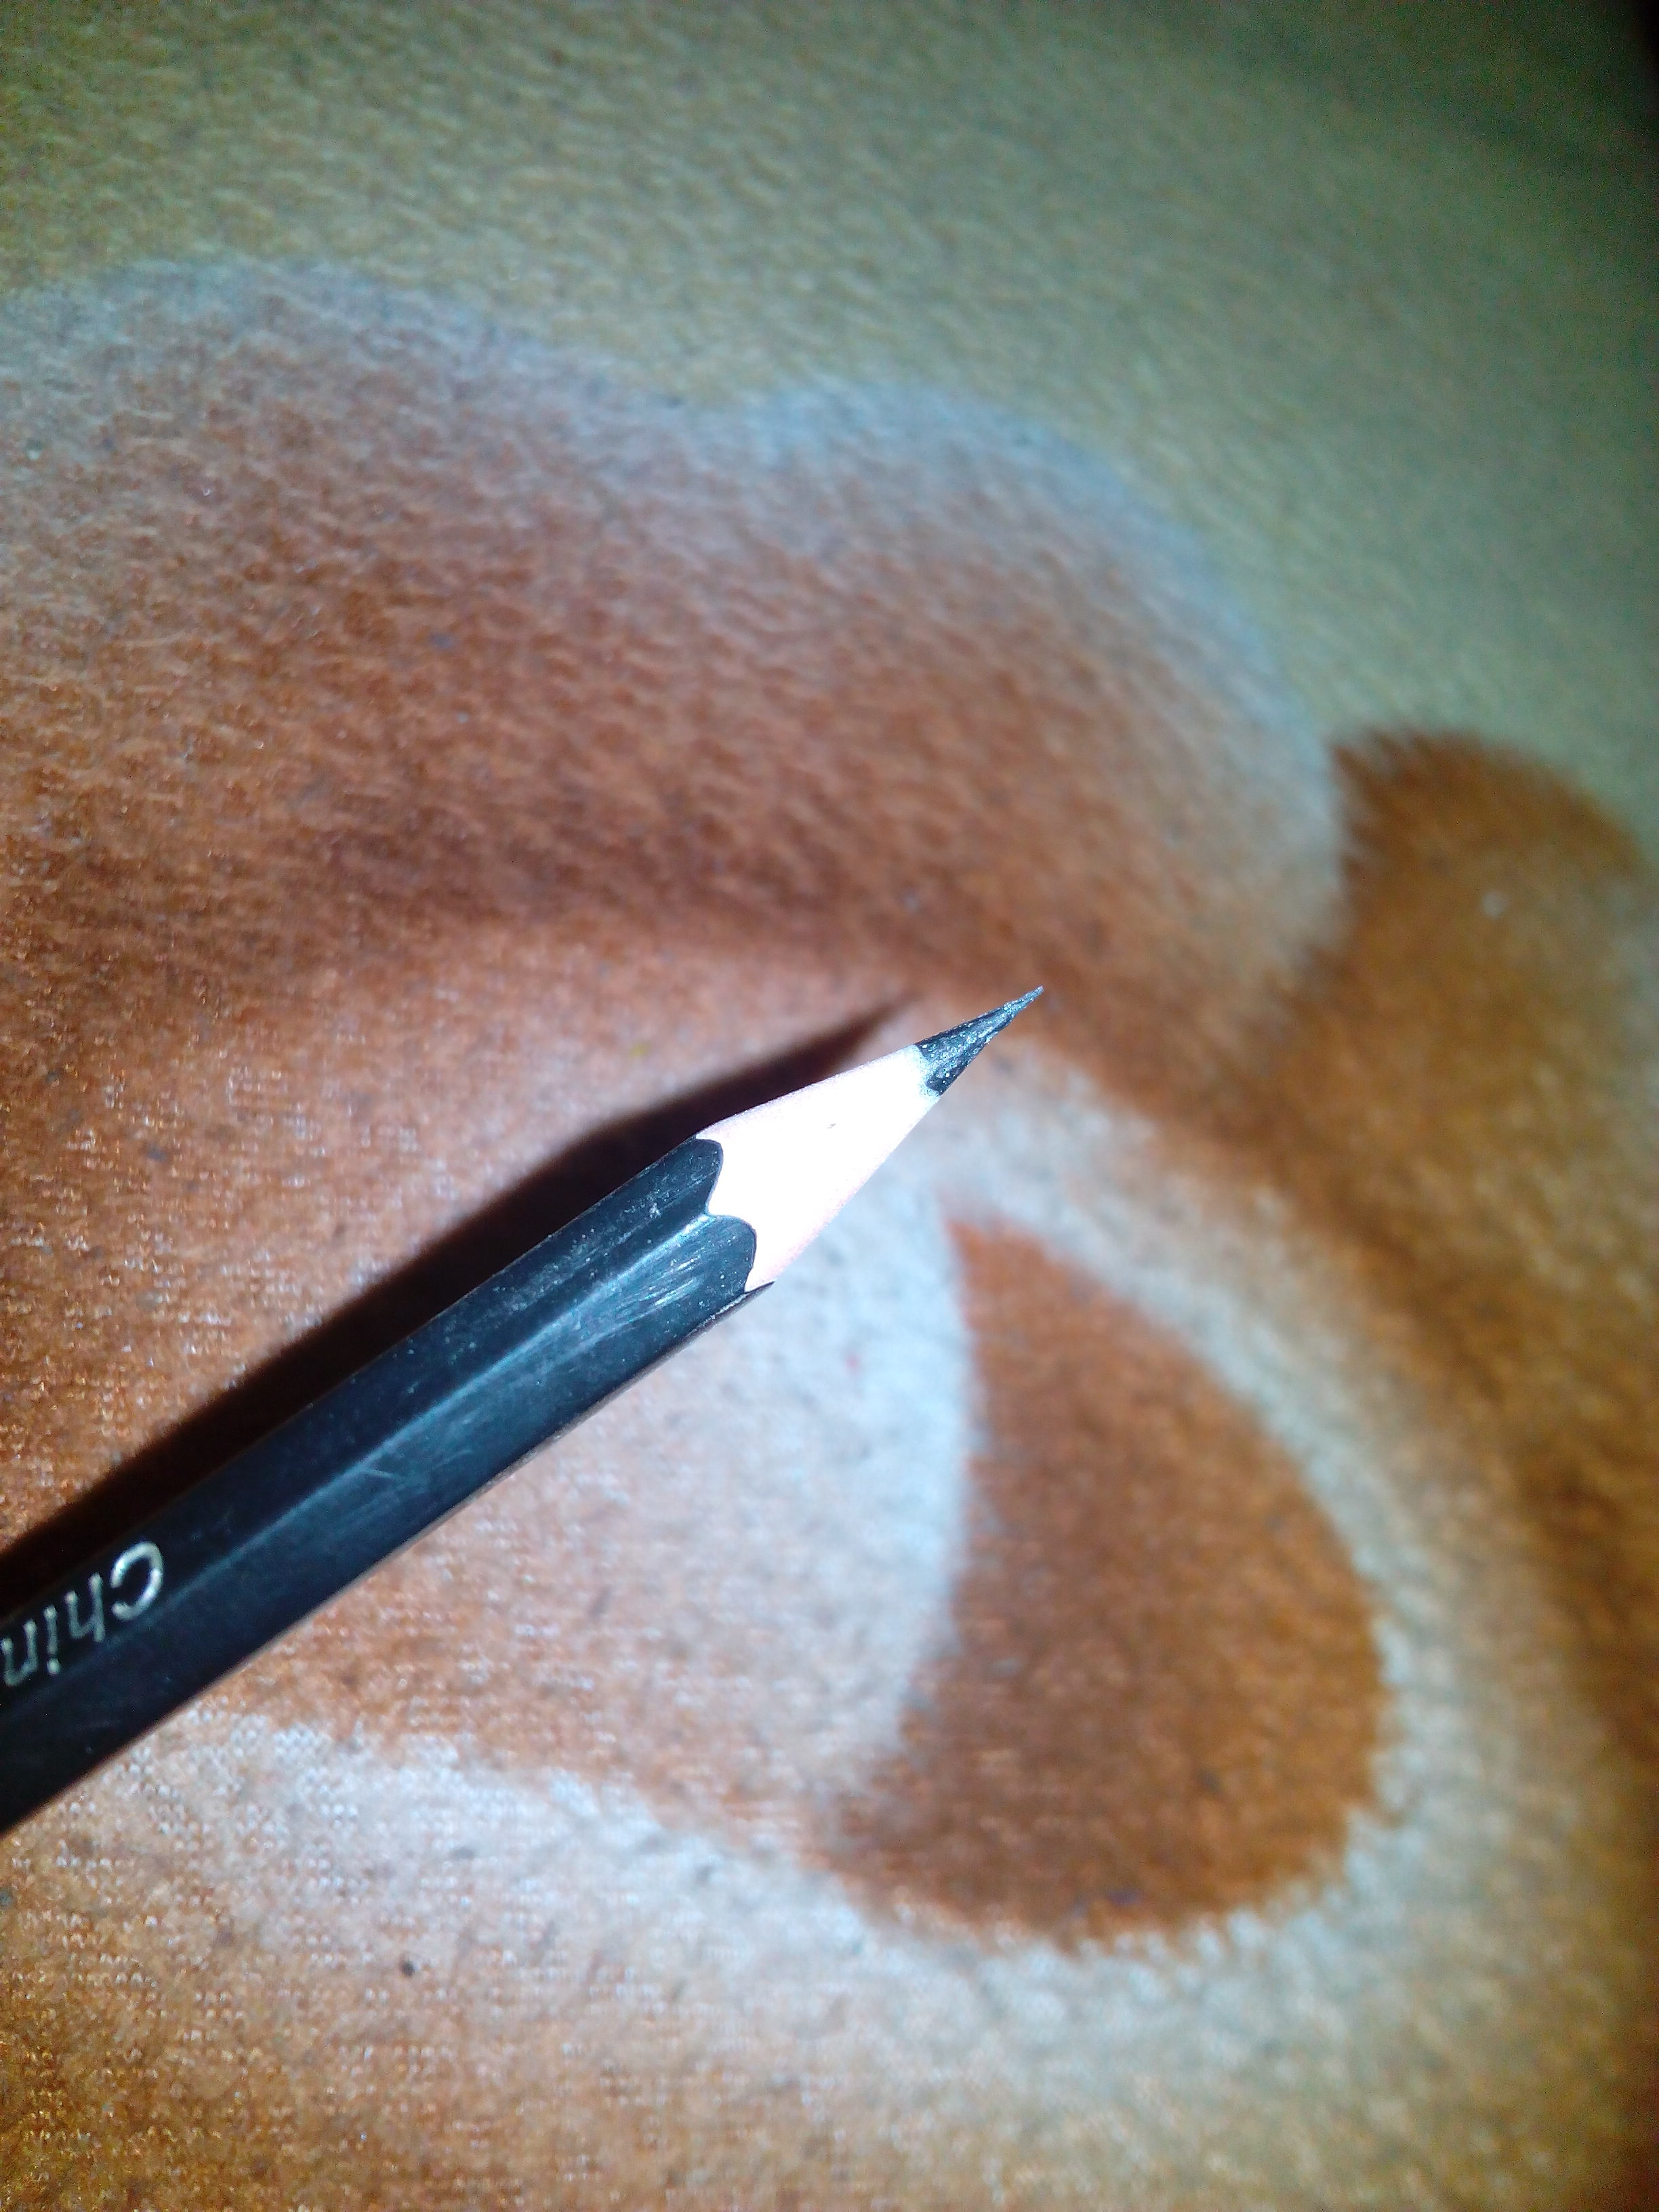pen_tip: (521, 780, 1208, 1454)
